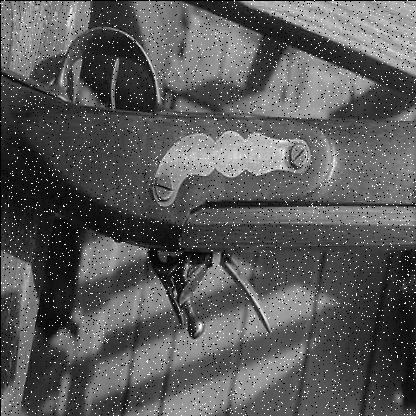rifle: (1, 1, 416, 330)
